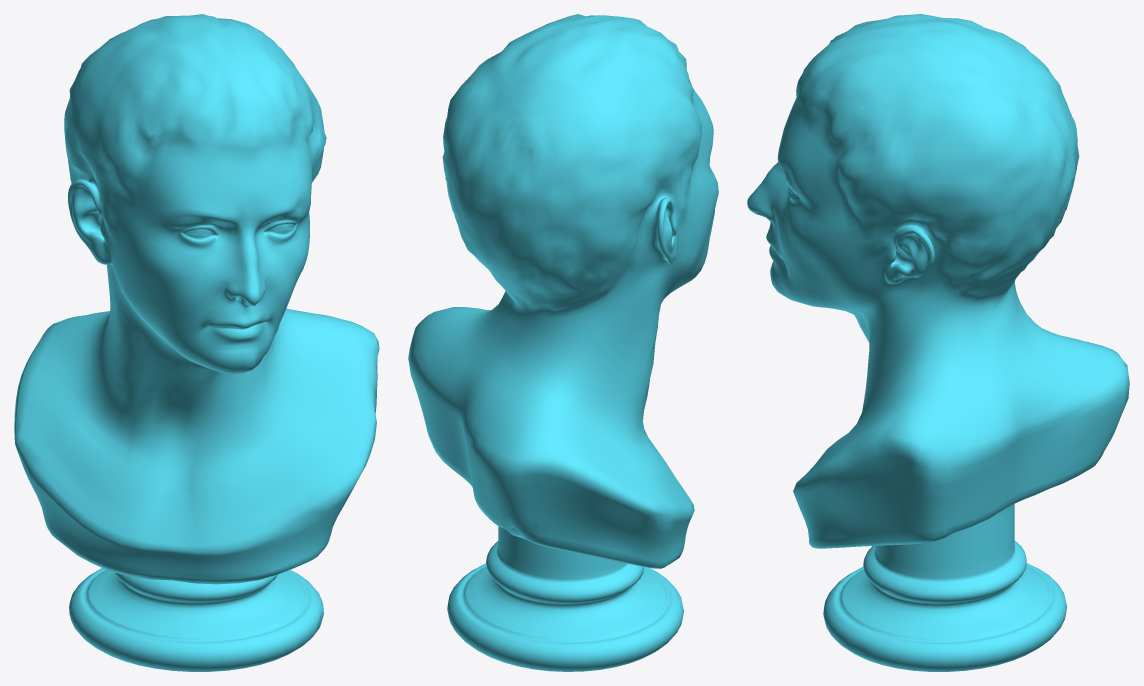
Rendered from nia.glb.
3 views of the same model, side by side, from view 1: azimuth 30°, elevation 25°; view 2: azimuth 150°, elevation 25°; view 3: azimuth 270°, elevation 25° (orthographic). The views are drawn at different scales.
Parts seen in each view (by area): view 1: marble_bust_01; view 2: marble_bust_01; view 3: marble_bust_01.
Boxes of the visible parts, x1,y1,x2,y2 form: marble_bust_01: (14,14,379,671); marble_bust_01: (408,14,718,671); marble_bust_01: (747,14,1129,671).
Bounding box in the file's own units: 0.2717 × 0.5149 × 0.2997.
